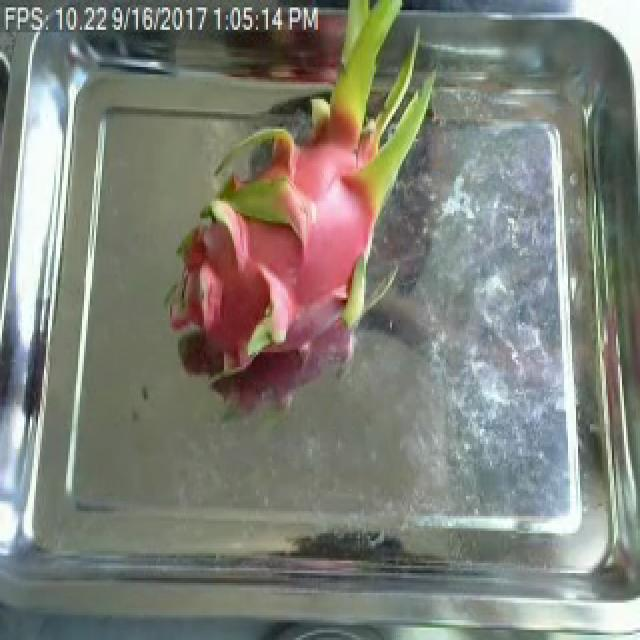fruit: (146, 8, 454, 394)
